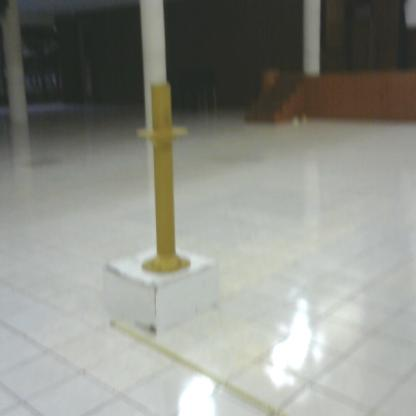pole: (131, 74, 203, 281)
